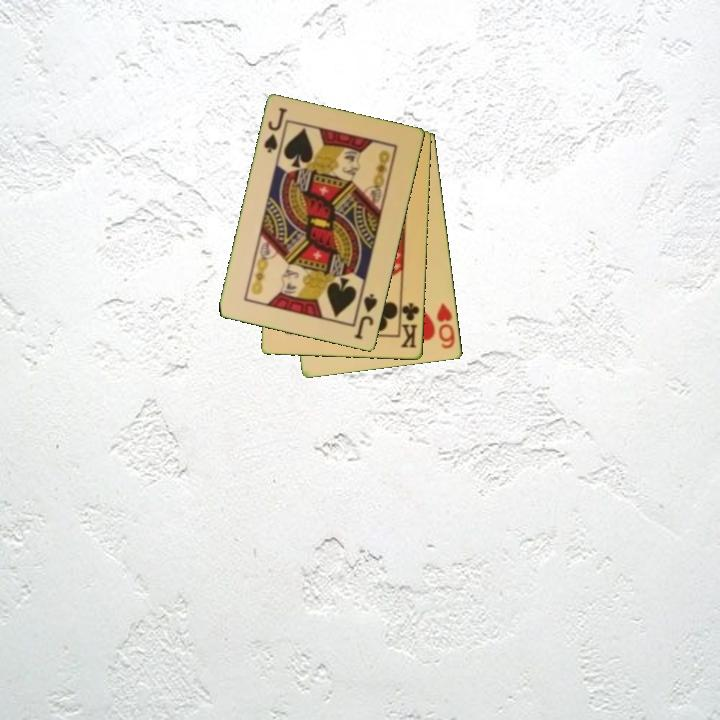6h: (433, 300, 458, 352)
Js: (260, 104, 290, 159), (351, 290, 380, 343)
Kc: (397, 296, 422, 351)
